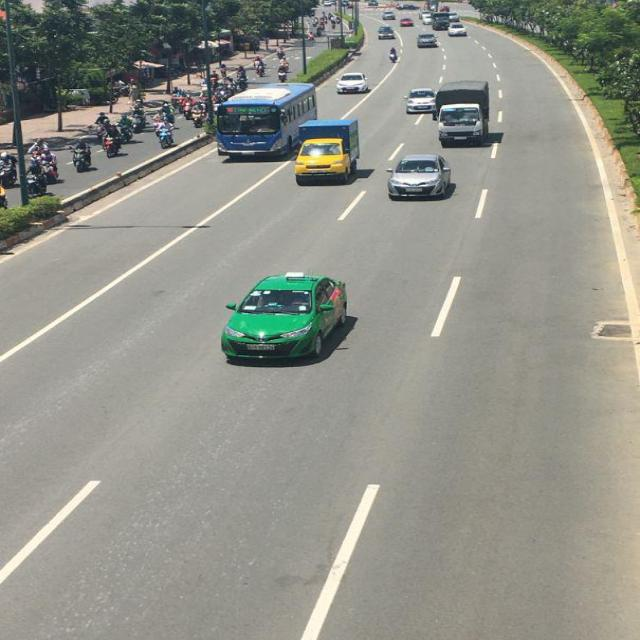bus: (216, 82, 319, 163)
car: (222, 271, 349, 365), (388, 154, 458, 202), (406, 88, 435, 114), (336, 74, 371, 95), (416, 33, 439, 50), (376, 26, 394, 40), (447, 24, 466, 37), (400, 18, 416, 27), (382, 12, 396, 21)
motorcycle: (105, 135, 124, 156), (158, 126, 175, 146)
truck: (295, 118, 358, 184), (436, 80, 489, 148), (433, 14, 451, 30)
